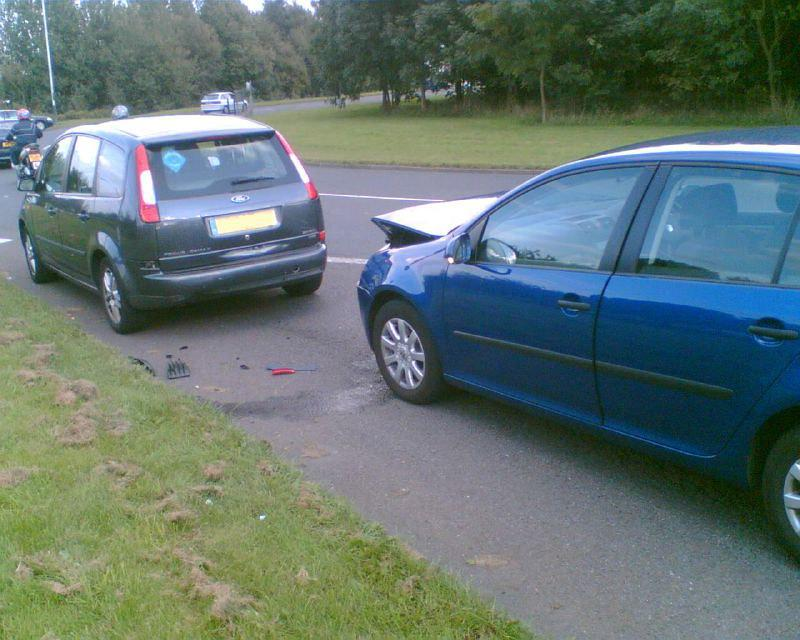bonnet-dent: (366, 185, 462, 248)
